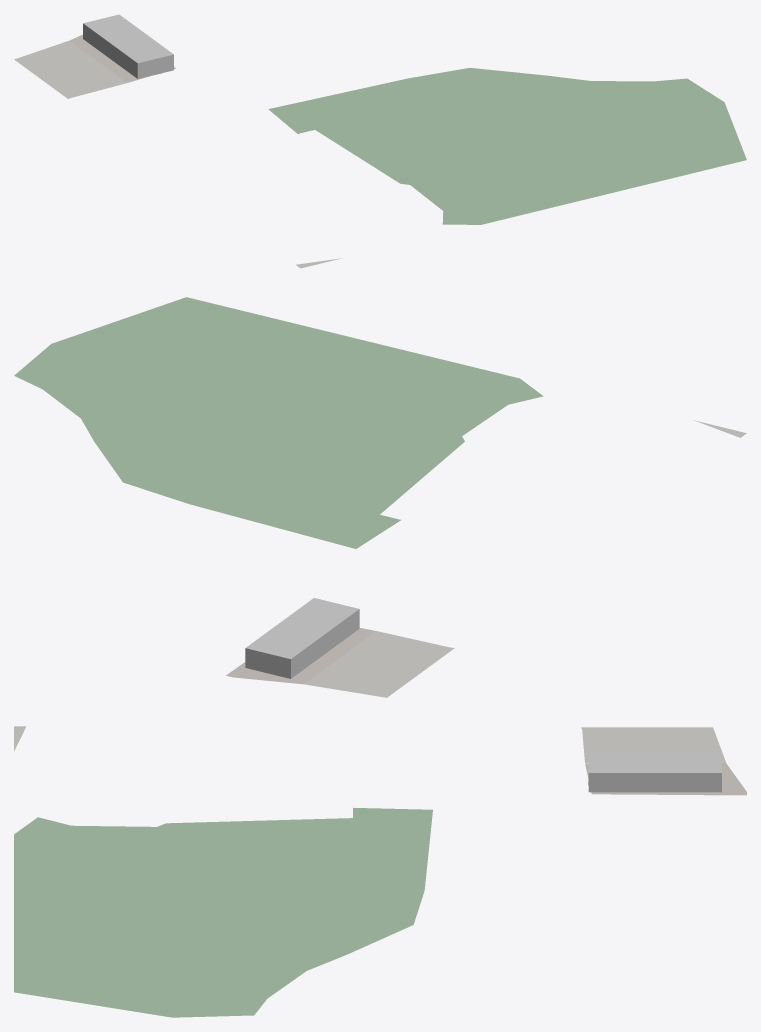
The model's file is 98_101_mid.glb.
The picture shows the model from 3 angles, top to bottom: view 1: azimuth 30°, elevation 25°; view 2: azimuth 150°, elevation 25°; view 3: azimuth 270°, elevation 25°; orthographic projection. The views are drawn at different scales.
Bounding box in the file's own units: 469 × 14.5 × 500.
